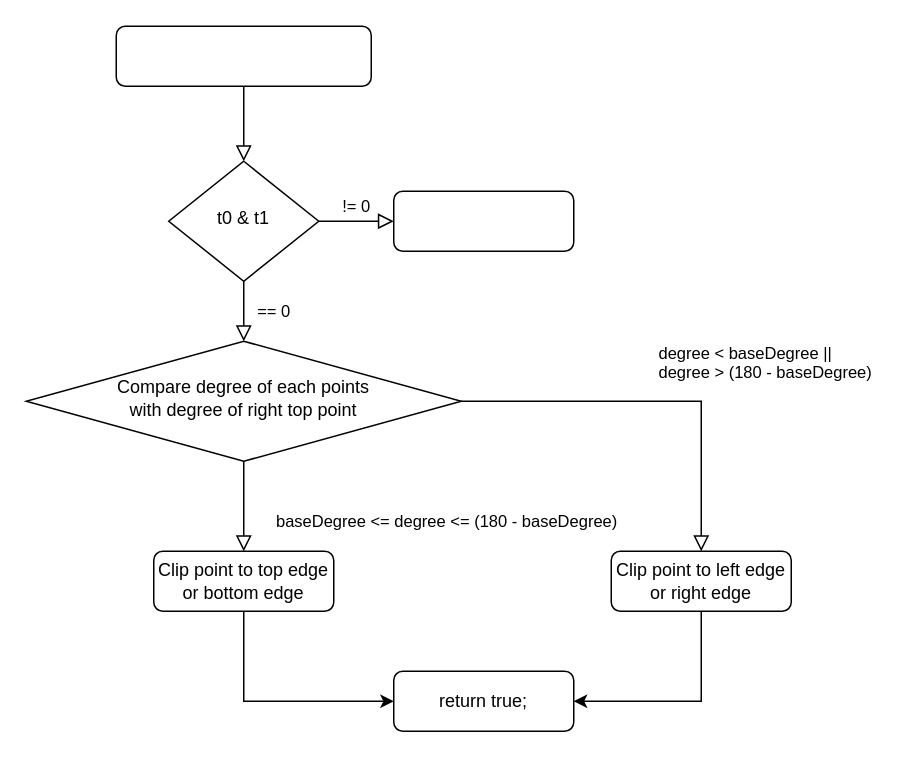
This 899x758 diagram has some shape labels left out. The shapes that lost their labels are listed below. From the top down, each one's centre as x and y in pixels, then its label:
At point 243,55: "Test region of two points".
At point 483,220: "return false;".
